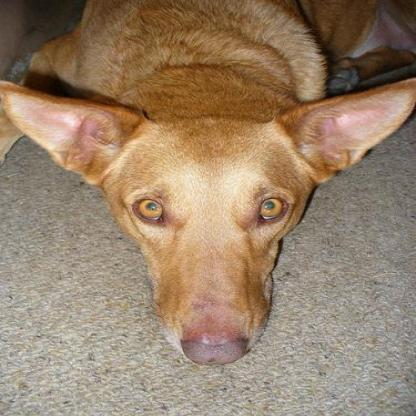kelpie: (0, 0, 413, 367)
